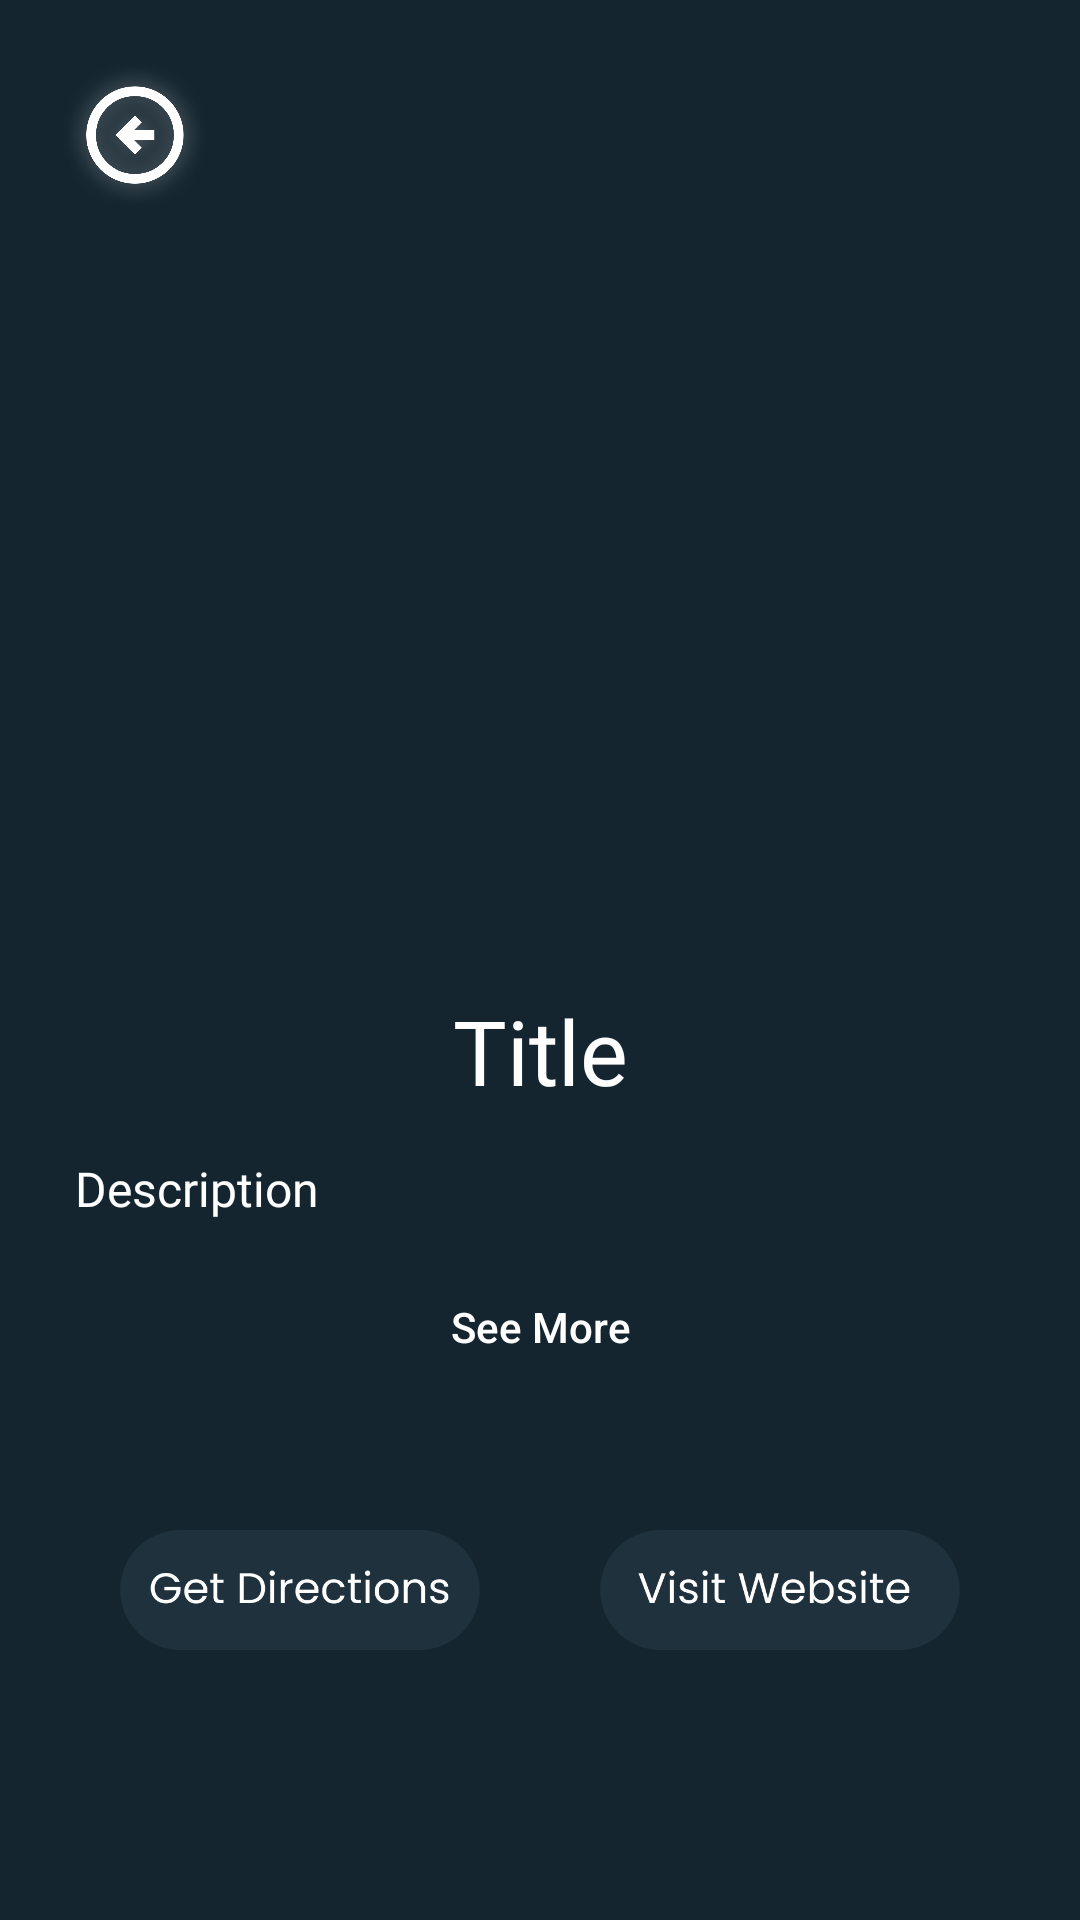

Named icons in this screenshot (1080px×1920px) and their centers, [x,y]:
backarrow: [135,135]
